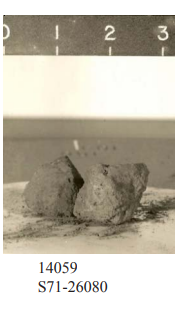Breccia: (19, 154, 151, 228)
